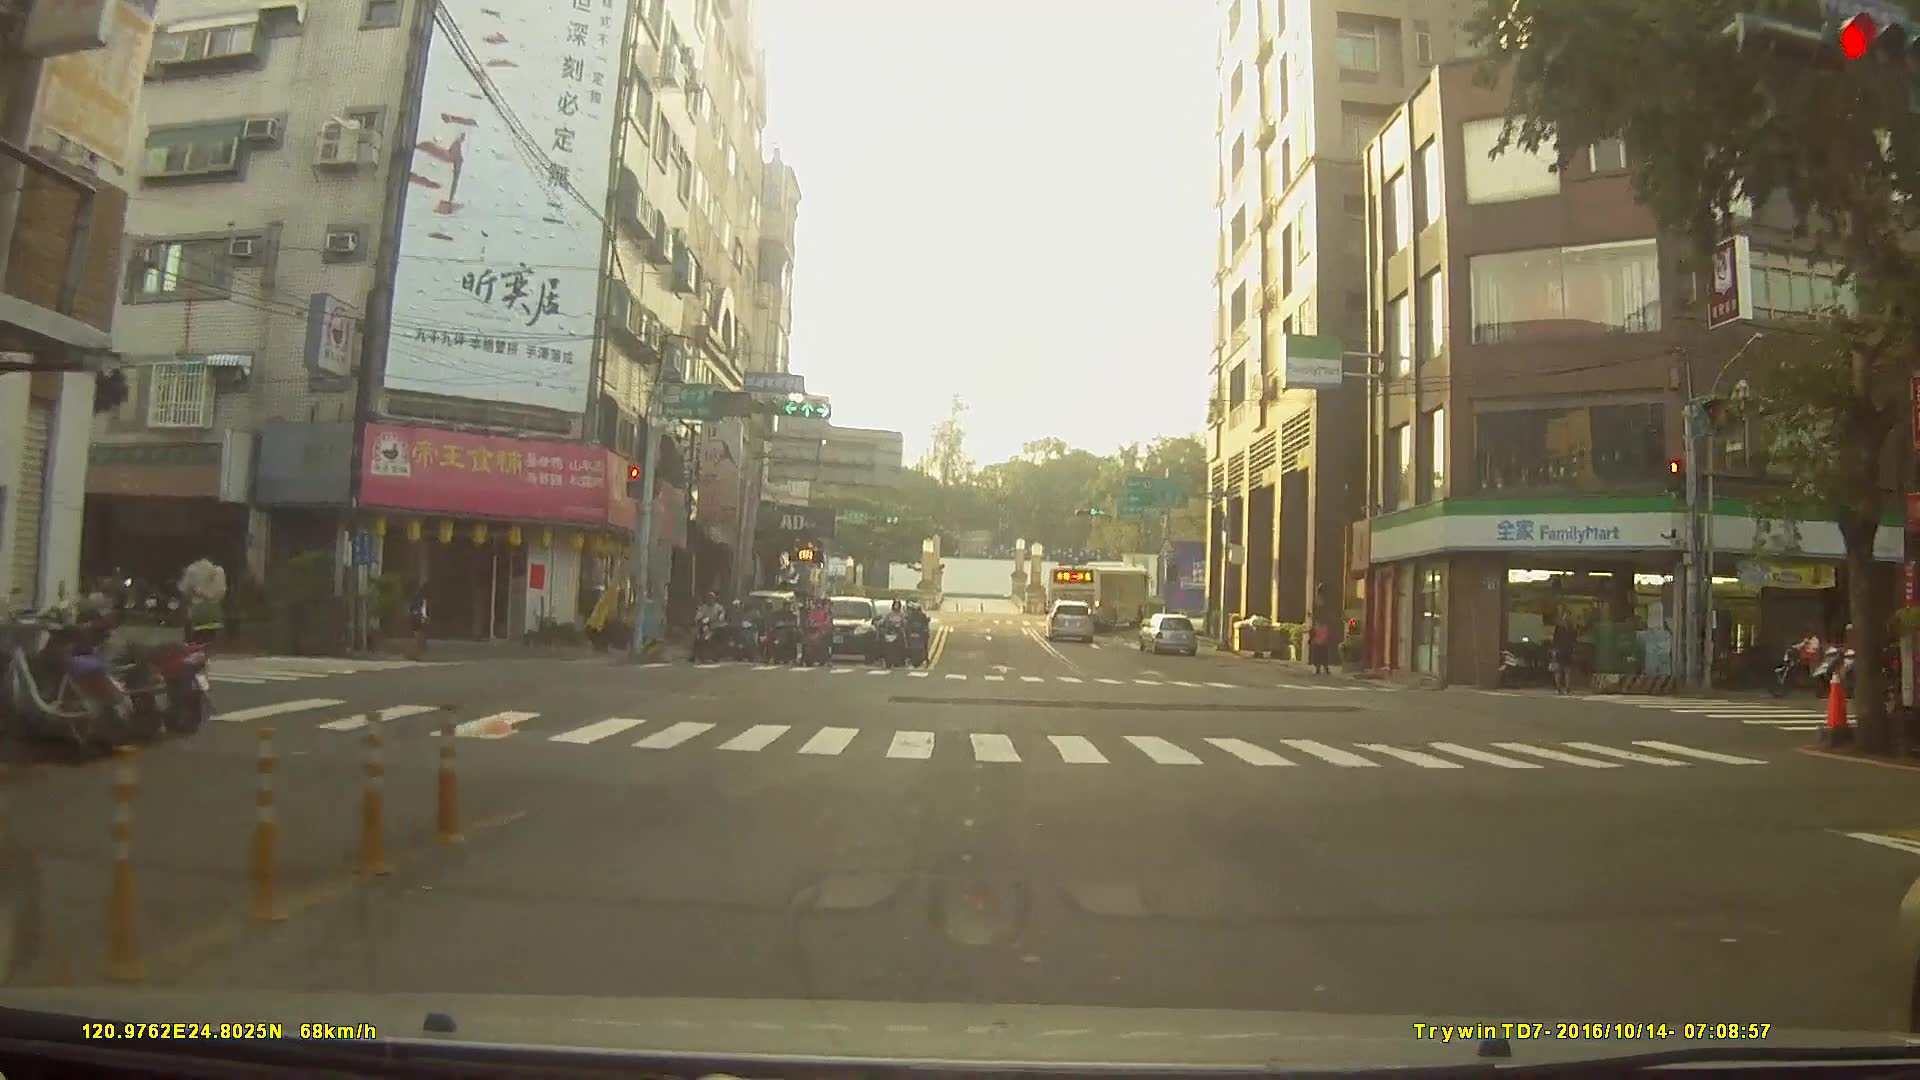pedestrian: (172, 531, 236, 696), (1551, 610, 1581, 696), (408, 585, 441, 661), (1306, 609, 1333, 673)
rider: (692, 587, 728, 659), (804, 595, 837, 671), (766, 599, 802, 664), (904, 603, 934, 671), (733, 596, 763, 658), (884, 606, 909, 677)
vehicle: (1046, 558, 1154, 627), (809, 590, 882, 662), (1135, 612, 1198, 654), (1044, 595, 1096, 640)
